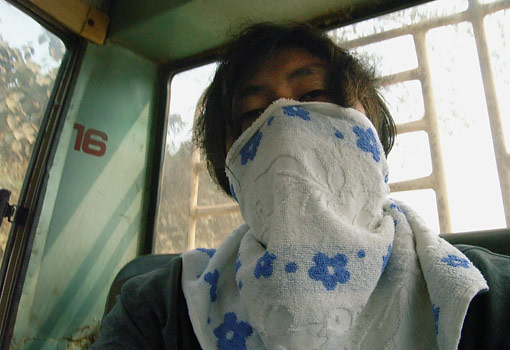face: (234, 44, 359, 218)
